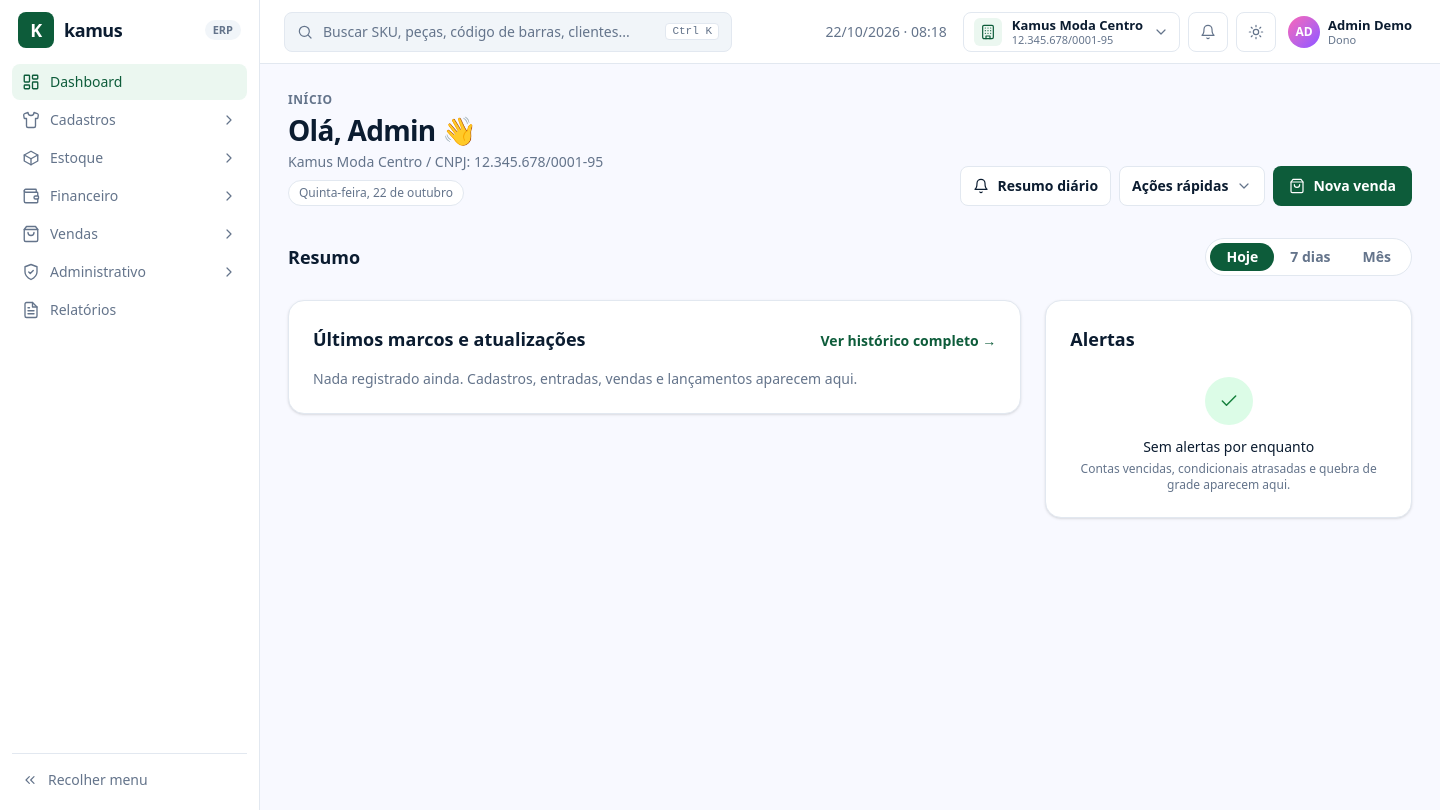
Scenario: Shell › botão de tema alterna só entre Claro e Escuro
Check: the heading "Olá, Admin 👋" is shown, box [288,111,476,149]
Click the button named "Tema: Claro (clique para trocar)". click: (1256, 32)
box: [1236,12,1276,52]
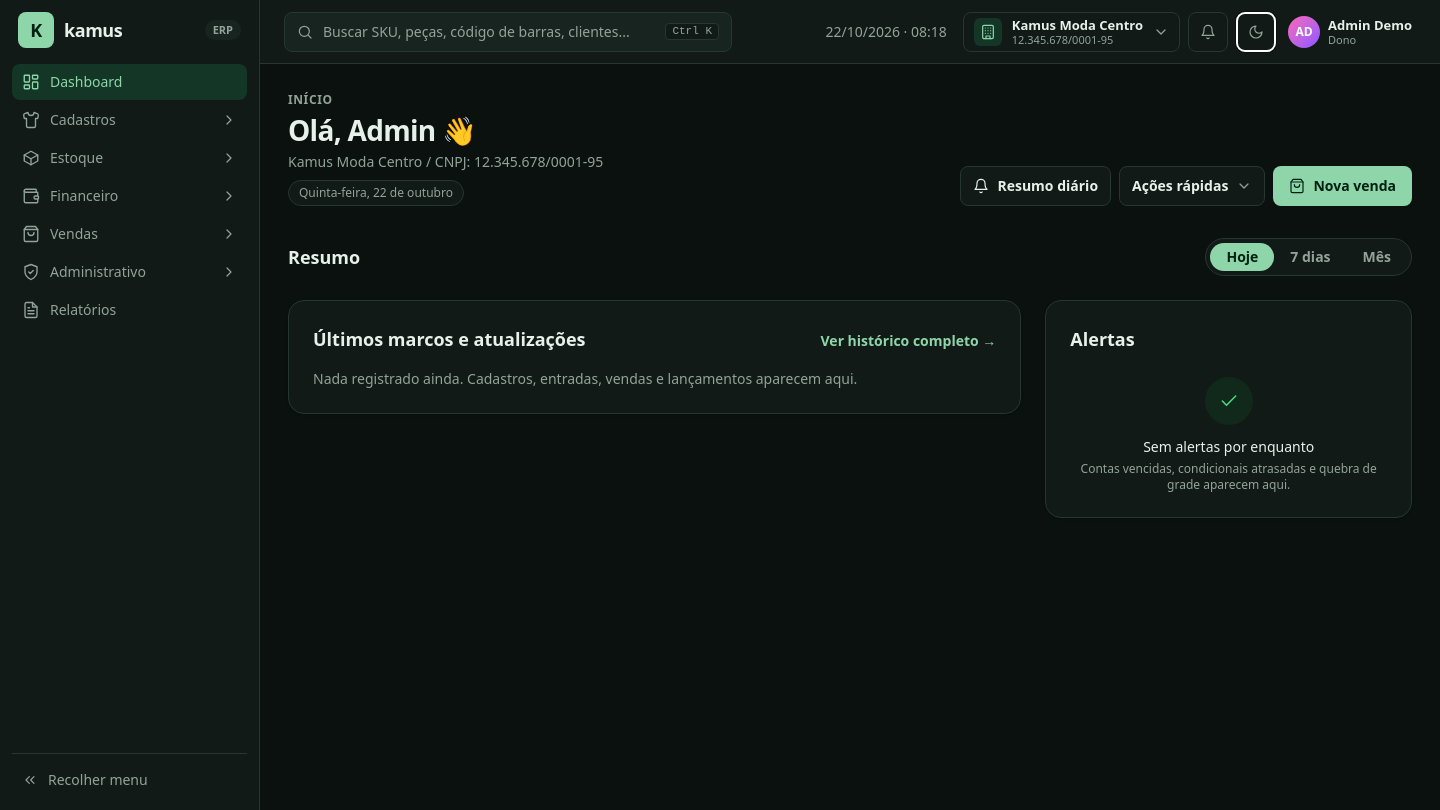
Click the button named "Tema: Escuro (clique para trocar)". click: (1256, 32)
box: [1236,12,1276,52]
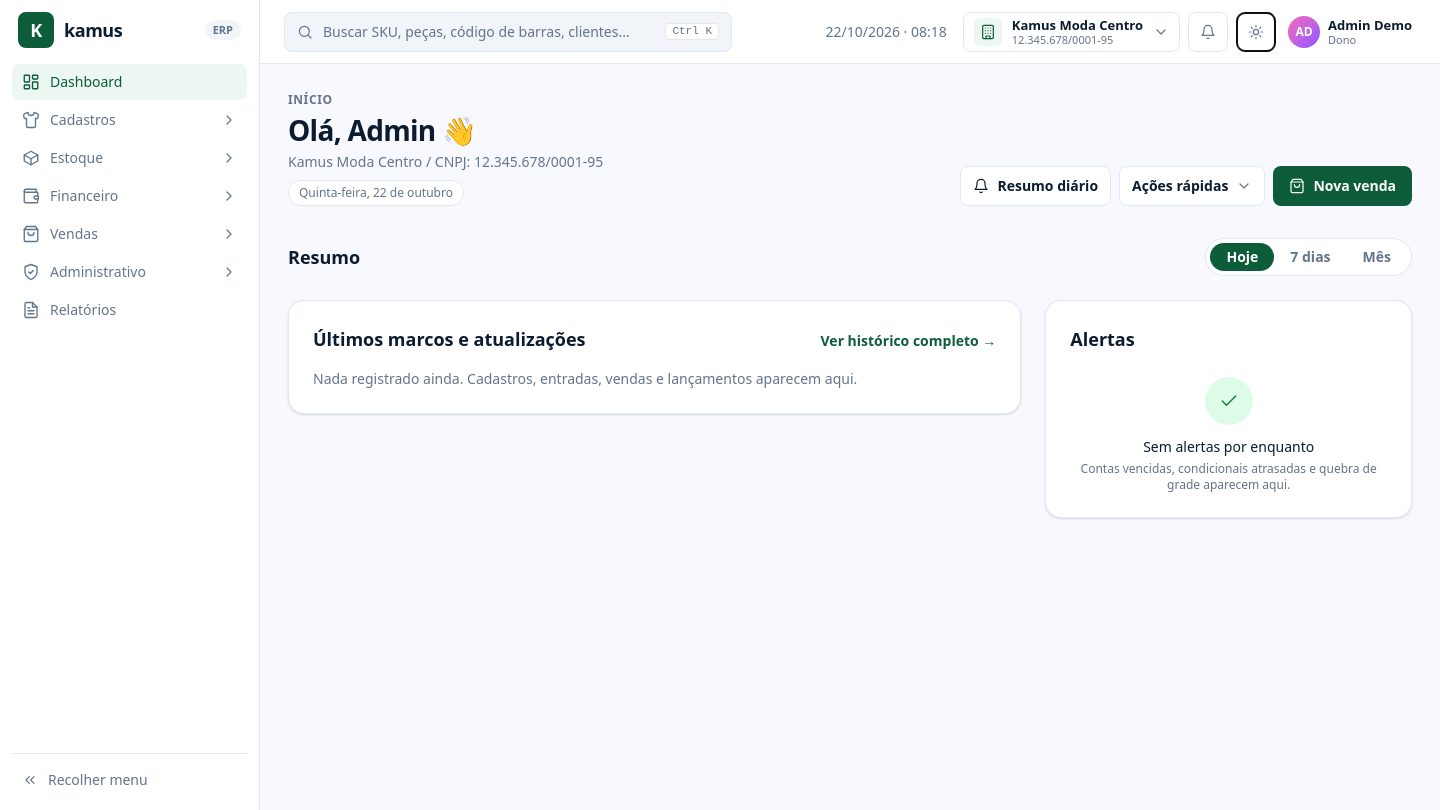
Check: the button named "Tema: Claro (clique para trocar)" is shown, box [1236,12,1276,52]
